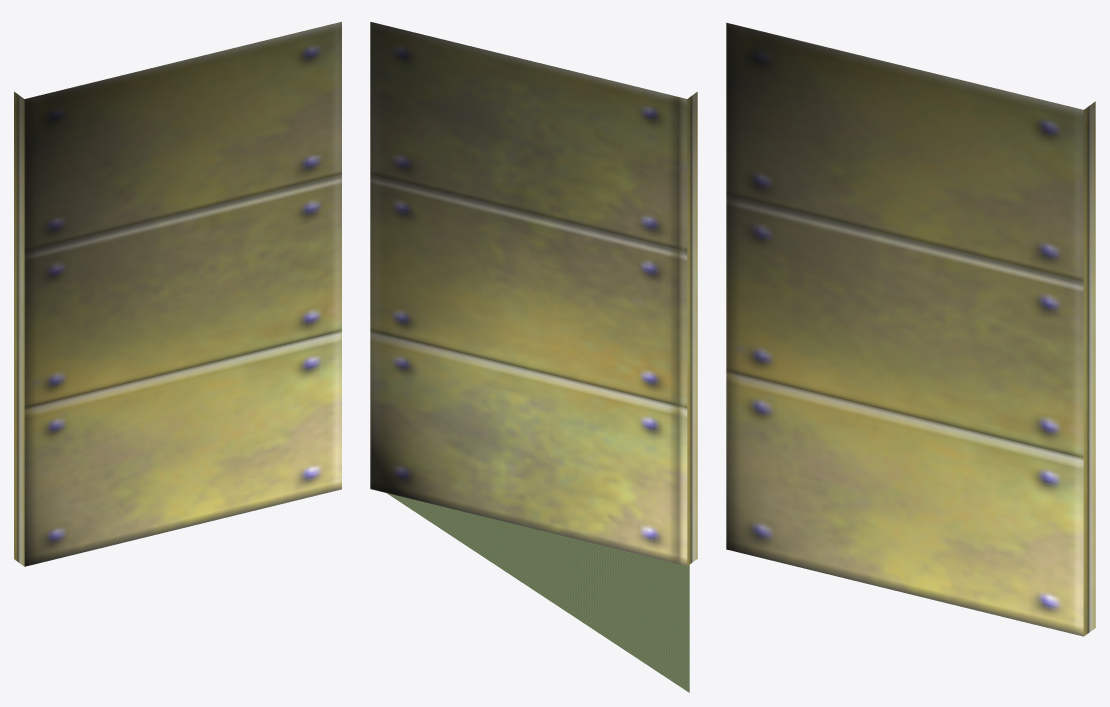
Rendered from DOOR.glb.
3 renders of one model, left to right at view 1: azimuth 30°, elevation 25°; view 2: azimuth 150°, elevation 25°; view 3: azimuth 330°, elevation 25°, orthographic. The views are drawn at different scales.
Visible parts, largest first — view 1: DOOR; view 2: DOOR; view 3: DOOR.
Part boxes in pixels (x1,y1,x2,y2): DOOR: (14,21,341,566); DOOR: (370,22,697,692); DOOR: (726,22,1095,636).
Bounding box in the file's own units: 516 × 929 × 29.56.
Materials: 2 (2 with a texture image).
